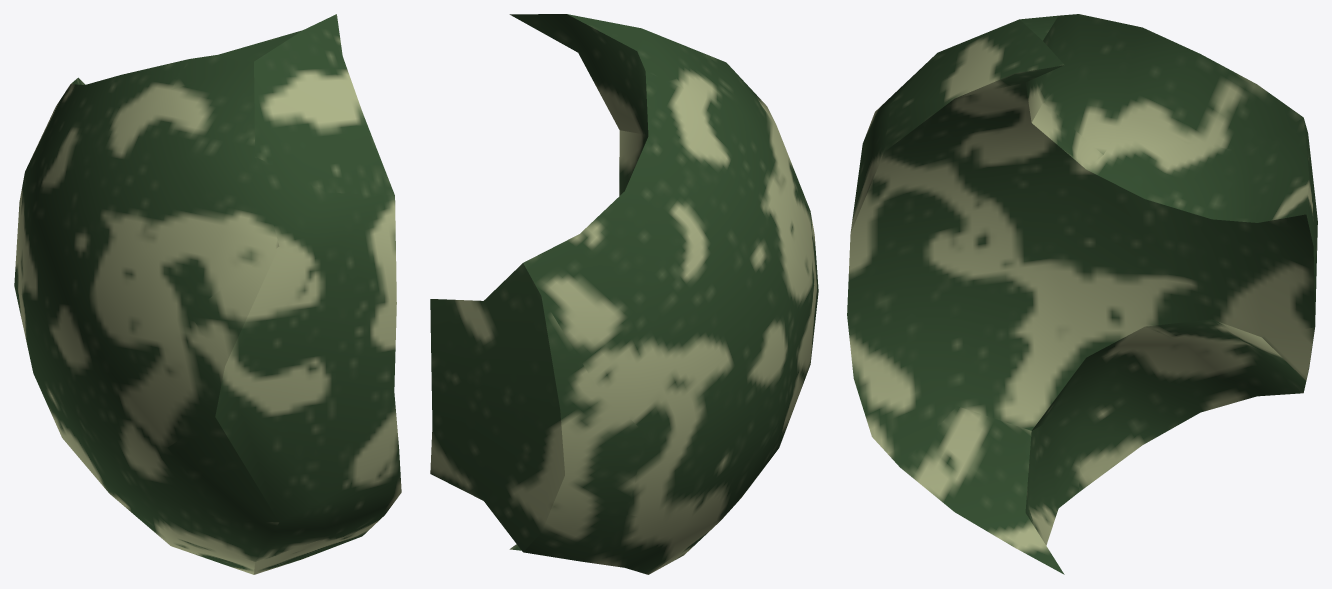
The model's file is link_body_01.obj.
3 views of the same model, side by side, from view 1: azimuth 30°, elevation 25°; view 2: azimuth 150°, elevation 25°; view 3: azimuth 270°, elevation 25° (orthographic). The views are drawn at different scales.
Visible parts, largest first — view 1: link_body_01; view 2: link_body_01; view 3: link_body_01.
Boxes of the visible parts, x1,y1,x2,y2 form: link_body_01: [14, 14, 401, 574]; link_body_01: [430, 14, 818, 574]; link_body_01: [847, 14, 1317, 574].
Size of the model in its own units: 8.05 by 15.29 by 12.65.
